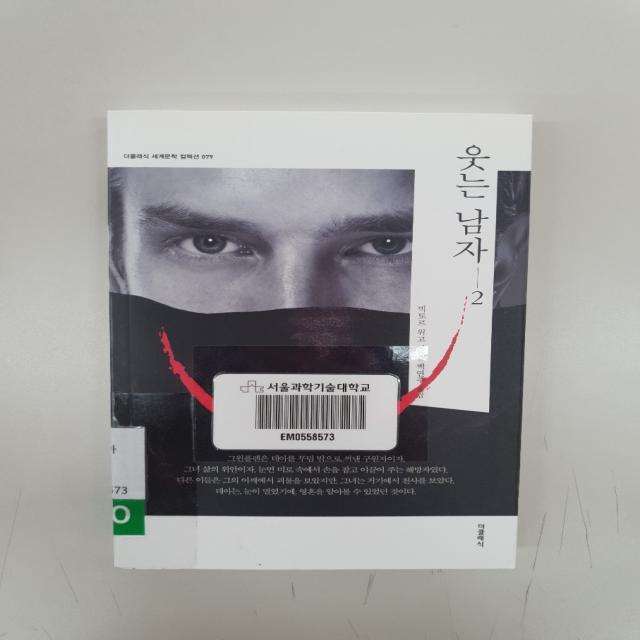Wornout: (112, 563, 168, 572)
